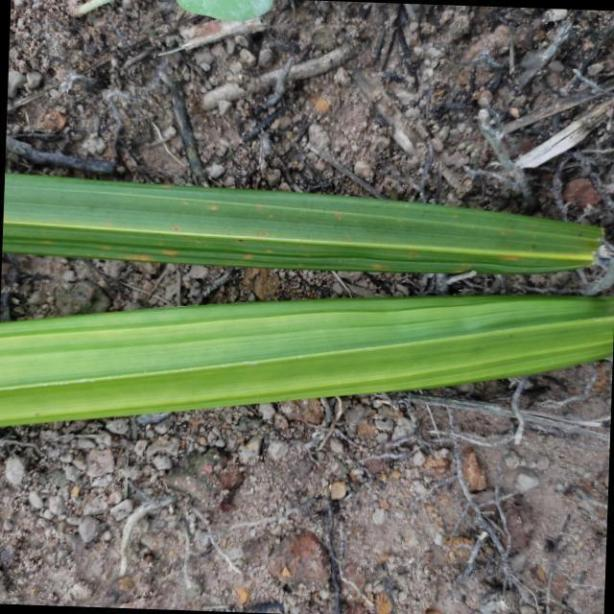nitrogen: (0, 291, 614, 432), (4, 168, 612, 273)
